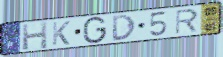5: (149, 10, 169, 38)
D: (111, 13, 137, 42)
G: (82, 15, 109, 45)
H: (21, 20, 49, 52)
K: (51, 20, 72, 47)
R: (174, 8, 200, 36)
